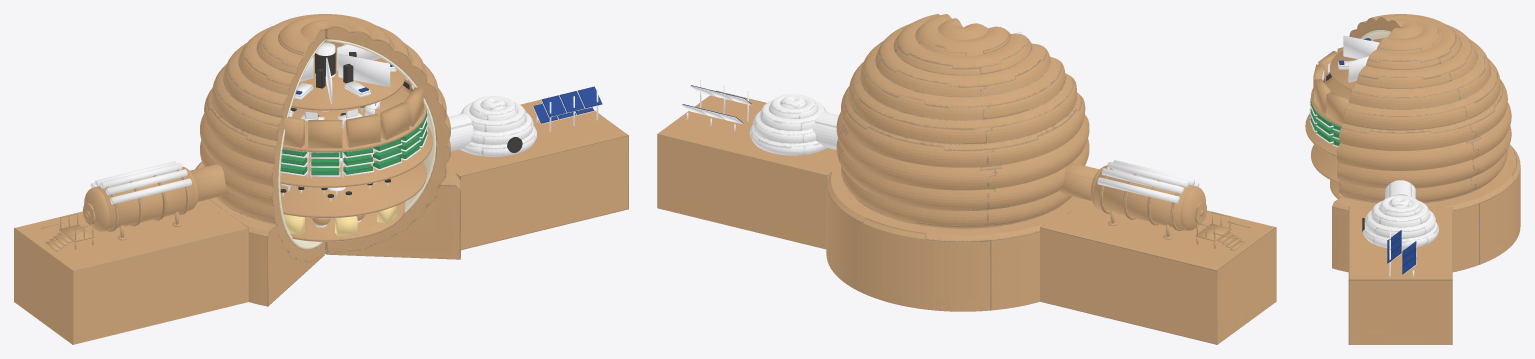
The model's file is hard_shelled.glb.
3 renders of one model, left to right at view 1: azimuth 30°, elevation 25°; view 2: azimuth 150°, elevation 25°; view 3: azimuth 270°, elevation 25°, orthographic. The views are drawn at different scales.
Visible parts, largest first — view 1: hardShelled_RICH_BAKED; view 2: hardShelled_RICH_BAKED; view 3: hardShelled_RICH_BAKED.
Boxes of the visible parts, bbox=[...] form: hardShelled_RICH_BAKED: bbox=[14, 14, 628, 344]; hardShelled_RICH_BAKED: bbox=[657, 14, 1276, 344]; hardShelled_RICH_BAKED: bbox=[1305, 14, 1520, 344].
Size of the model in its own units: 142 by 55.74 by 53.8.
Materials: 1 (1 with a texture image).
